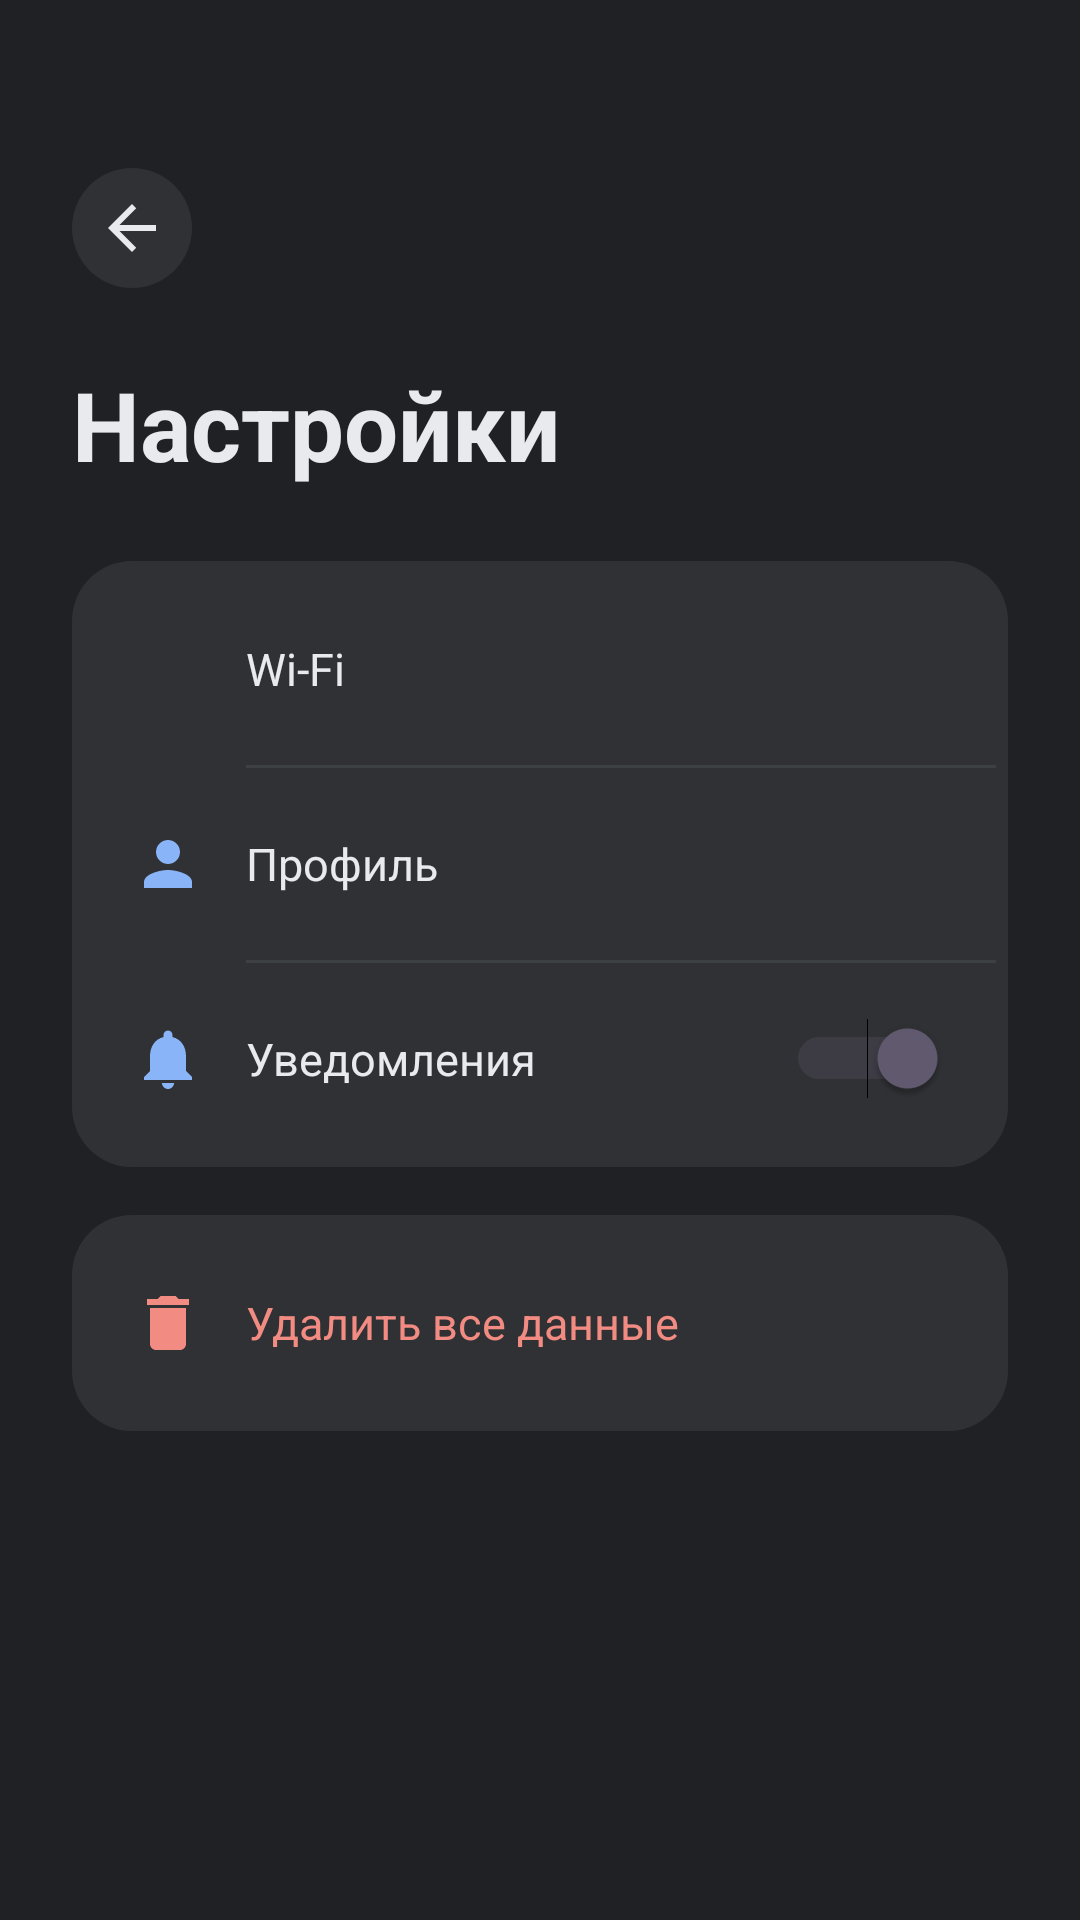

Named icons in this screenshot (1080*1920) and their bounding boxes, bbox=[x1, y1, x2, y2]:
delete: bbox=[147, 1296, 189, 1350]
notif: bbox=[144, 1030, 192, 1089]
profile: bbox=[144, 840, 192, 888]
Назад: bbox=[72, 168, 192, 288]
